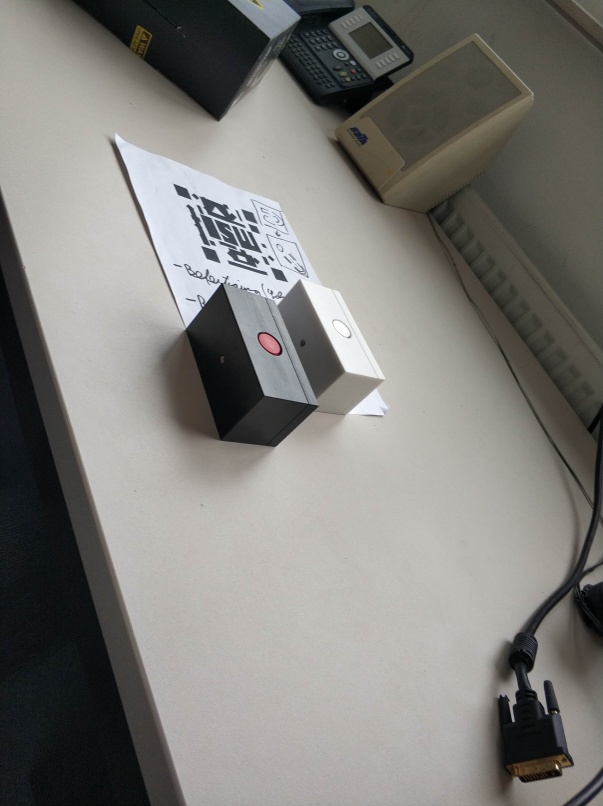black+black+red: (182, 280, 320, 452)
white+white+silver: (279, 276, 389, 419)
